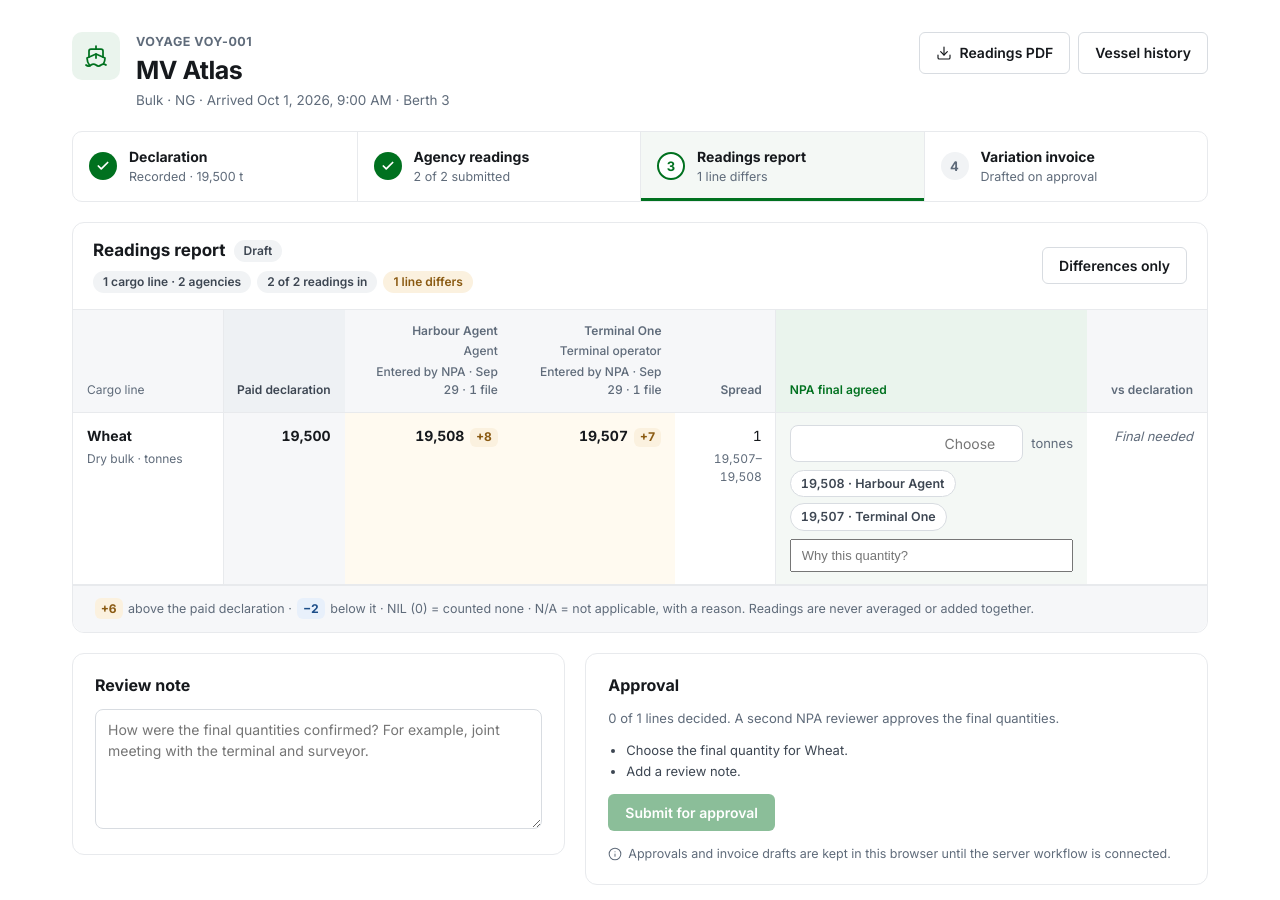
voyage readings report › submits a decided version for a second reviewer and never offers the preparer approval
Expected: the button "Submit for approval" is disabled, left=608, top=794, right=775, bottom=831
Click the button "19,508 · Harbour Agent": point(873, 484) left=790, top=470, right=956, bottom=497
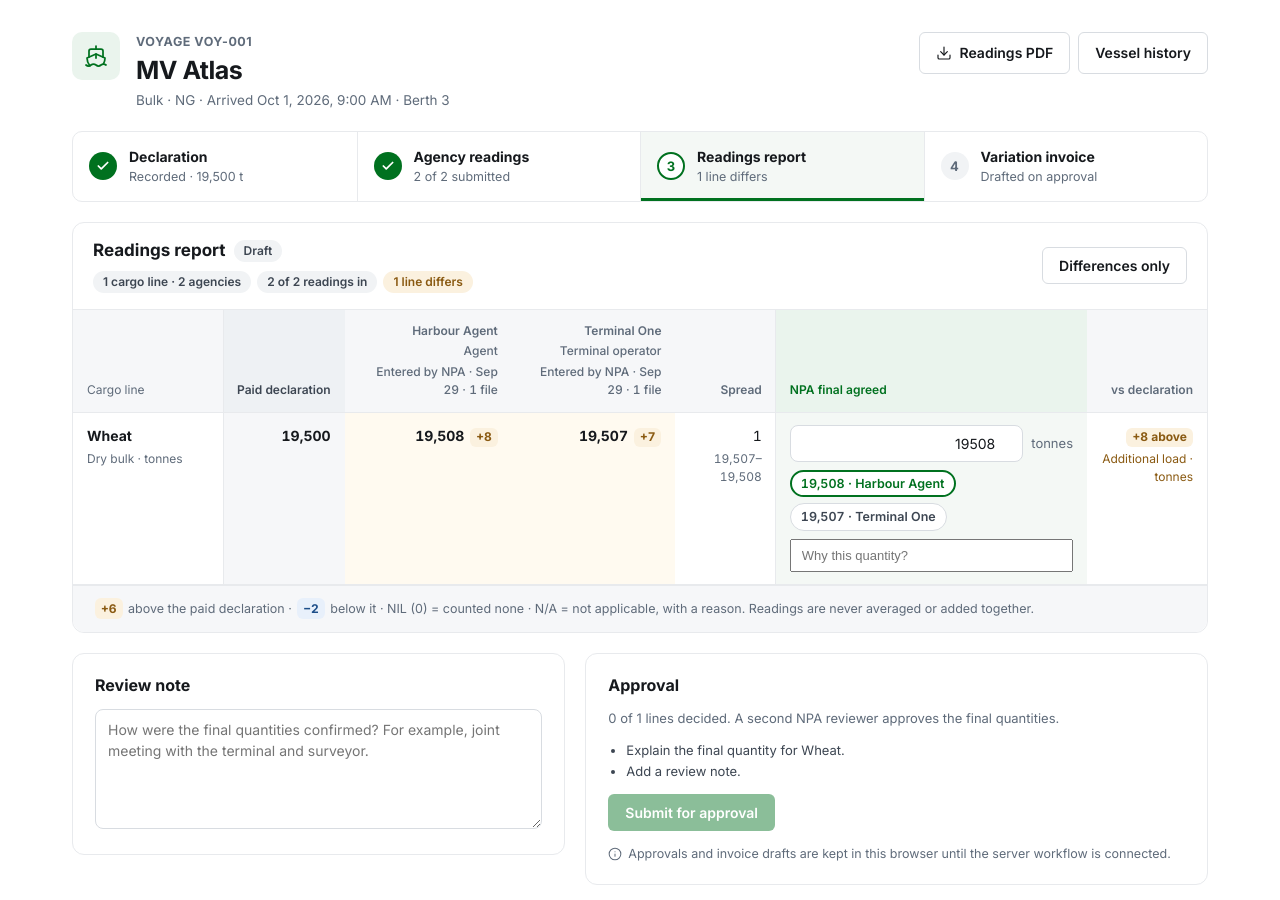
Expected: the number field named "NPA final quantity · Wheat" holds "19508", left=790, top=425, right=1023, bottom=462
Expected: the text "Additional load · tonnes" is shown, left=1101, top=450, right=1193, bottom=487
In the field named "Reason · Wheat": point(931, 555) left=790, top=539, right=1073, bottom=572, type "Agent survey confirmed"
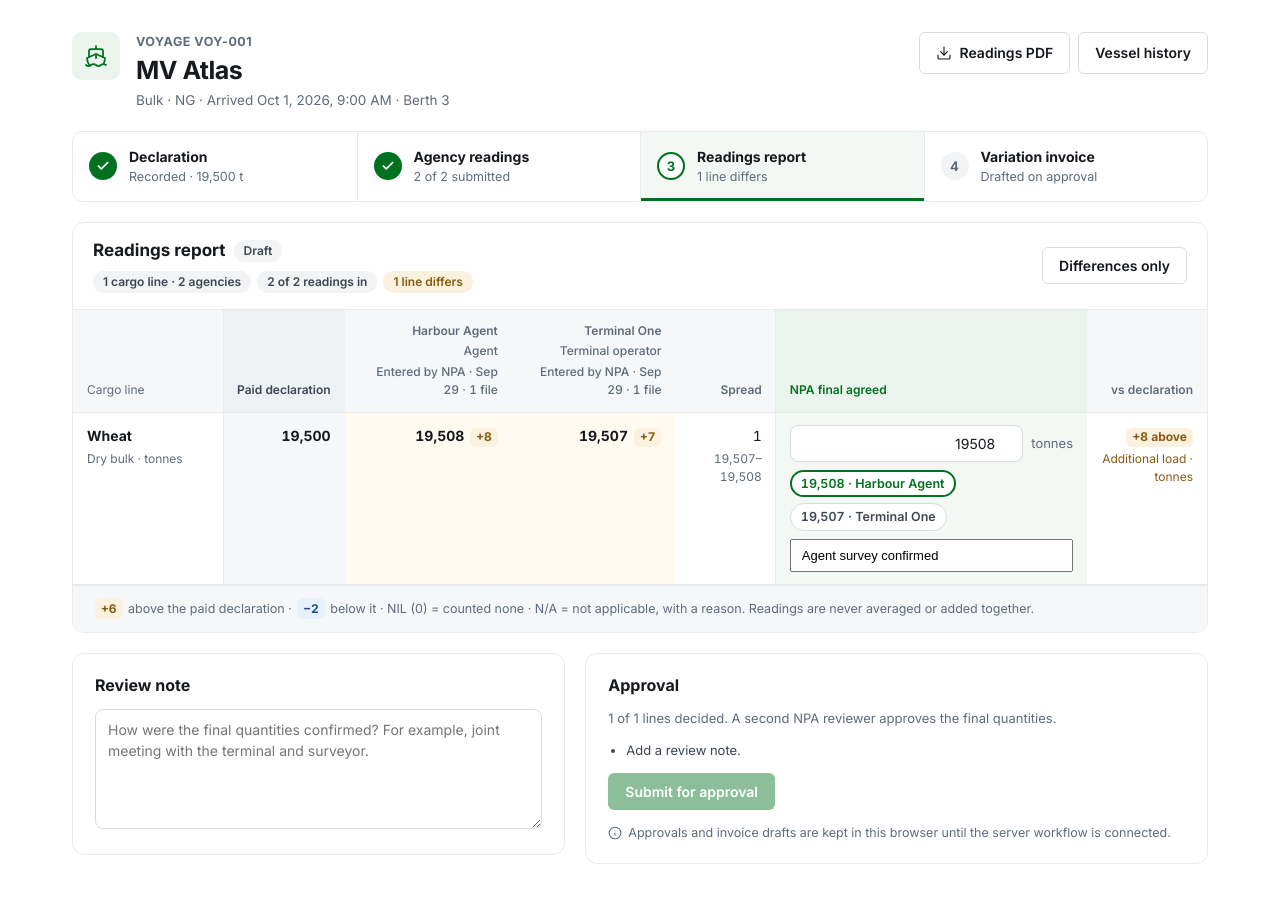
Replace the text in the text box named "Review note" with "Joint meeting with the terminal": point(319, 769) left=95, top=709, right=542, bottom=829
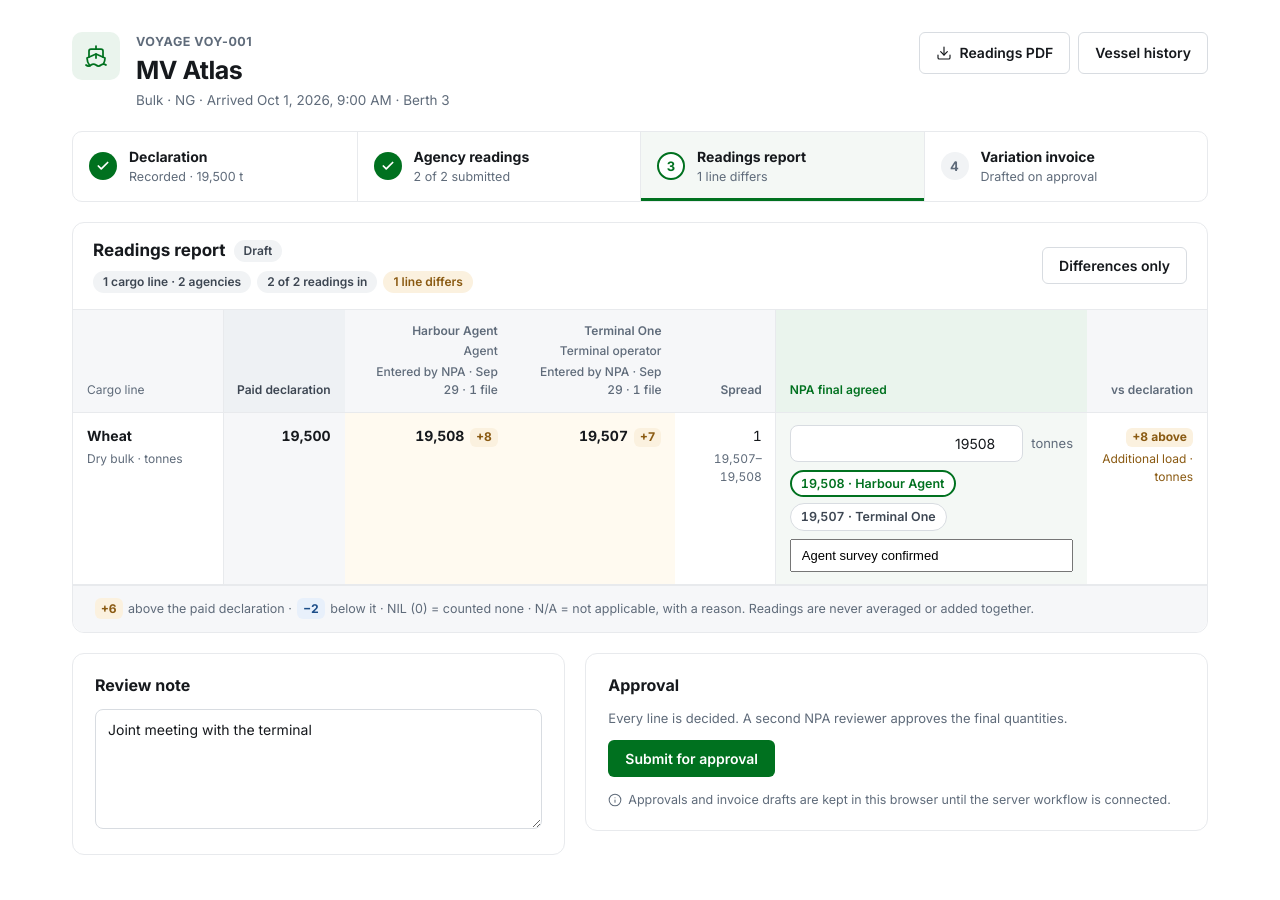
Click the button "Submit for approval": point(692, 759) left=608, top=740, right=775, bottom=777
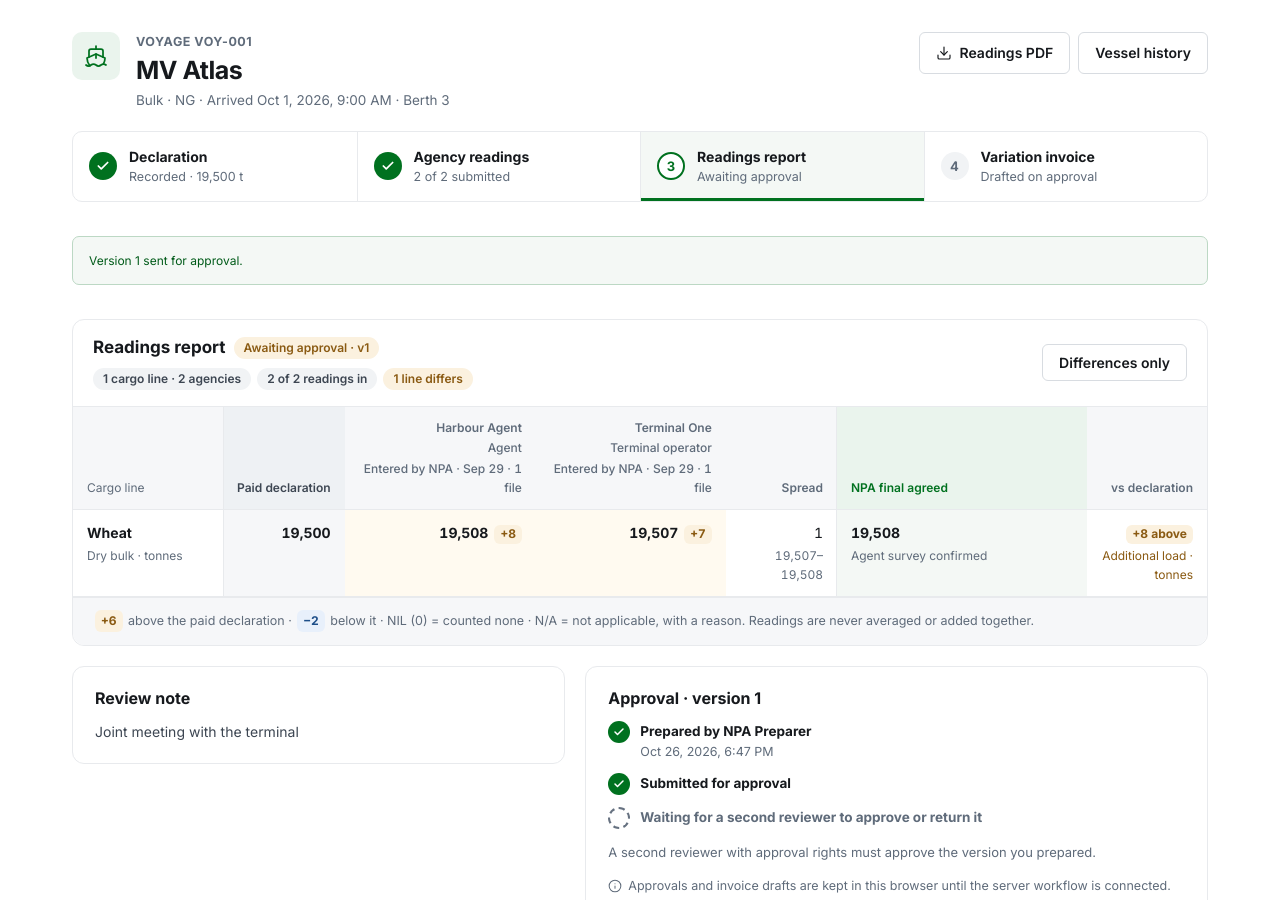
Expected: the text "Version 1 sent for approval." is shown, left=72, top=236, right=1208, bottom=285
Expected: the text "A second reviewer with approval rights must approve the version you prepared." is shown, left=608, top=844, right=1096, bottom=860
